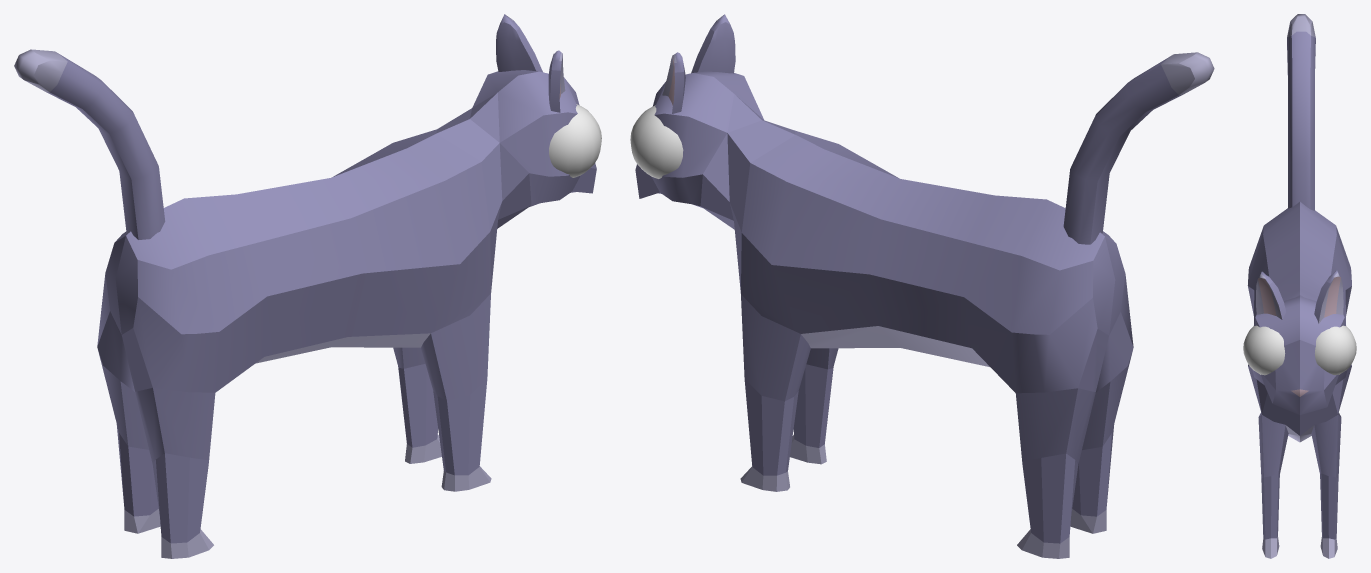
Rendered from Catto.fbx.
3 renders of one model, left to right at view 1: azimuth 30°, elevation 25°; view 2: azimuth 150°, elevation 25°; view 3: azimuth 270°, elevation 25°, orthographic. The views are drawn at different scales.
Visible parts, largest first — view 1: OBESUSMAXIMUS, pCube1, pSphere1, pasted__pCube2, pCube2; view 2: OBESUSMAXIMUS, pCube1, pasted__pSphere1, pCube2, pasted__pCube2; view 3: OBESUSMAXIMUS, pCube1, pSphere1, pasted__pSphere1, pasted__pCube2, pCube2.
Boxes of the visible parts, x1,y1,x2,y2 form: OBESUSMAXIMUS: (97,70,596,558); pCube1: (14,49,165,239); pSphere1: (549,104,601,177); pasted__pCube2: (496,14,542,72); pCube2: (548,50,565,112); OBESUSMAXIMUS: (635,71,1133,558); pCube1: (1063,52,1214,244); pasted__pSphere1: (630,105,683,178); pCube2: (691,14,735,73); pasted__pCube2: (662,52,685,113); OBESUSMAXIMUS: (1247,202,1351,558); pCube1: (1287,14,1315,210); pSphere1: (1243,325,1285,375); pasted__pSphere1: (1314,325,1356,375); pasted__pCube2: (1314,270,1343,323); pCube2: (1256,271,1285,319).
Bounding box in the file's own units: 23.89 × 20.75 × 5.54.
